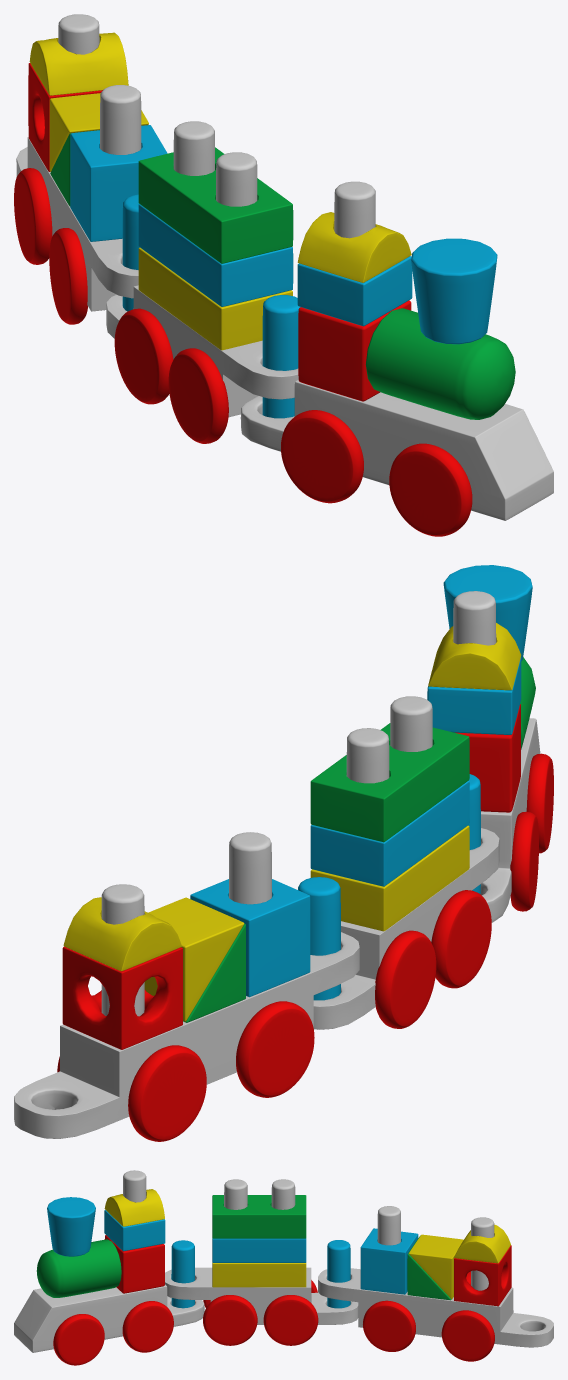
The picture shows the model from 3 angles, top to bottom: view 1: azimuth 30°, elevation 25°; view 2: azimuth 150°, elevation 25°; view 3: azimuth 270°, elevation 25°; orthographic projection. The views are drawn at different scales.
Parts seen in each view (by area): view 1: engine_shape, green_engine_cyliinder, middle_car_top_block_green, blue_engine_stack, middle_car_middle_block_blue, bluse_squareon_caboose, pCylinder5, pCylinder6, car__2_shape, red_square_on_engine, middle_car_bottom_block_yellow, blue_square_onengine (+17 smaller); view 2: car__3_shape, middle_car_top_block_green, red_square_with_holes, middle_car_middle_block_blue, bluse_squareon_caboose, car__2_shape, middle_car_bottom_block_yellow, pCylinder25, pCylinder23, yellow_triangle_oncaboose, yellow_caboose_half_block, pCylinder19 (+17 smaller); view 3: car__3_shape, engine_shape, car__2_shape, green_engine_cyliinder, middle_car_top_block_green, bluse_squareon_caboose, blue_engine_stack, middle_car_middle_block_blue, middle_car_bottom_block_yellow, red_square_with_holes, pCylinder17, pCylinder18 (+17 smaller).
Boxes of the visible parts, box(x1,y1,x2,y2) form: engine_shape: box(240, 379, 553, 520); green_engine_cyliinder: box(365, 308, 515, 419); middle_car_top_block_green: box(138, 147, 293, 263); blue_engine_stack: box(411, 238, 497, 344); middle_car_middle_block_blue: box(138, 204, 293, 306); bluse_squareon_caboose: box(70, 125, 167, 241); pCylinder5: box(389, 443, 472, 536); pCylinder6: box(281, 410, 363, 503); car__2_shape: box(106, 285, 298, 417); red_square_on_engine: box(298, 300, 411, 401); middle_car_bottom_block_yellow: box(138, 247, 292, 350); blue_square_onengine: box(297, 256, 412, 326); car__3_shape: box(14, 932, 359, 1138); middle_car_top_block_green: box(310, 723, 469, 842); red_square_with_holes: box(62, 946, 182, 1049); middle_car_middle_block_blue: box(310, 781, 469, 886); bluse_squareon_caboose: box(190, 879, 310, 997); car__2_shape: box(313, 828, 499, 1029); middle_car_bottom_block_yellow: box(310, 825, 469, 931); pCylinder25: box(128, 1045, 206, 1141); pCylinder23: box(236, 1001, 314, 1097); yellow_triangle_oncaboose: box(144, 897, 244, 1021); yellow_caboose_half_block: box(63, 897, 181, 971); pCylinder19: box(375, 930, 436, 1028); car__3_shape: box(318, 1268, 553, 1347); engine_shape: box(14, 1284, 204, 1352); car__2_shape: box(165, 1267, 358, 1324); green_engine_cyliinder: box(36, 1239, 121, 1297); middle_car_top_block_green: box(212, 1195, 306, 1238); bluse_squareon_caboose: box(360, 1228, 418, 1294); blue_engine_stack: box(47, 1197, 95, 1256); middle_car_middle_block_blue: box(212, 1238, 306, 1262); middle_car_bottom_block_yellow: box(212, 1262, 306, 1287); red_square_with_holes: box(454, 1245, 511, 1306); pCylinder17: box(263, 1295, 318, 1345); pCylinder18: box(203, 1295, 257, 1345).
Size of the model in its own units: 9.09 by 13.69 by 40.17.
